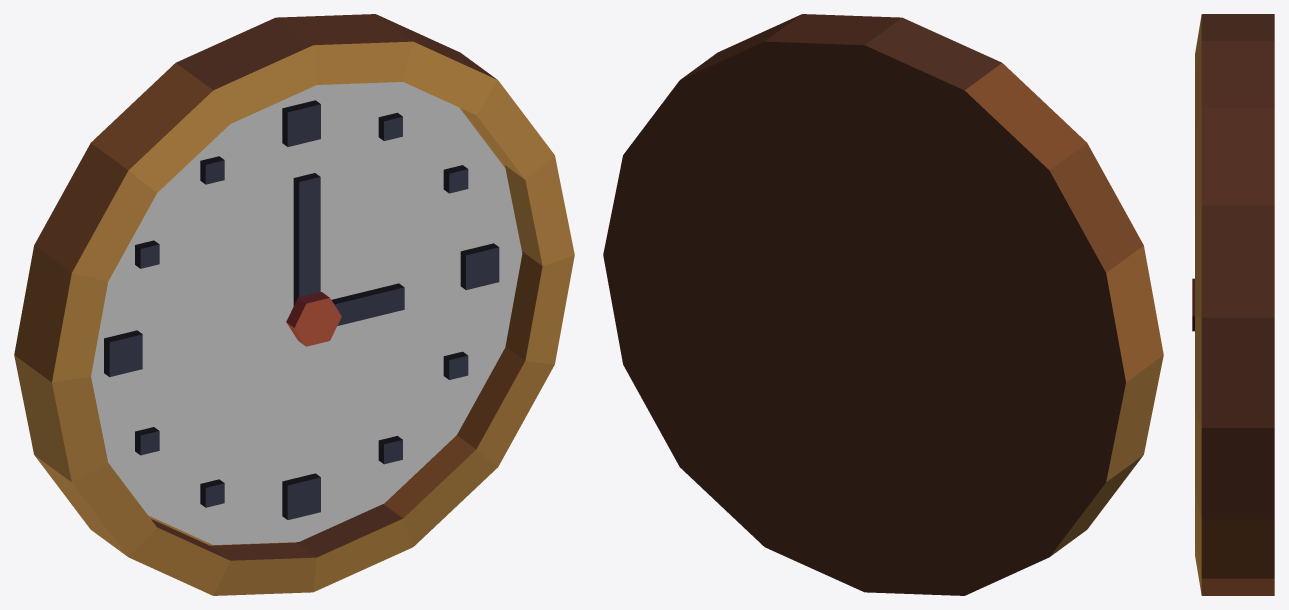
Rendered from wall_clock.glb.
The picture shows the model from 3 angles, left to right: view 1: azimuth 30°, elevation 25°; view 2: azimuth 150°, elevation 25°; view 3: azimuth 270°, elevation 25°; orthographic projection. The views are drawn at different scales.
Visible parts, largest first — view 1: wall_clock; view 2: wall_clock; view 3: wall_clock.
Boxes of the visible parts, x1,y1,x2,y2 form: wall_clock: (14,14,574,595); wall_clock: (603,14,1163,595); wall_clock: (1192,14,1274,595).
Size of the model in its own units: 0.44 by 0.44 by 0.062.
